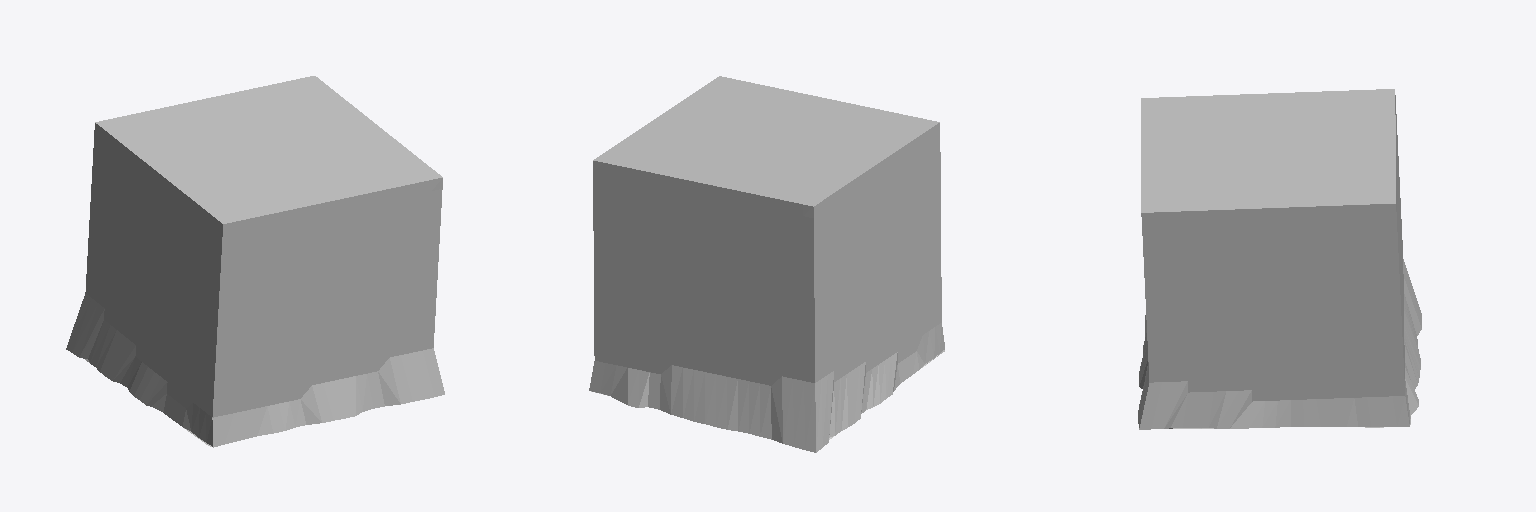
File: mod0026.obj
3 renders of one model, left to right at view 1: azimuth 30°, elevation 25°; view 2: azimuth 150°, elevation 25°; view 3: azimuth 270°, elevation 25°, orthographic.
Visible parts, largest first — view 1: Box001; view 2: Box001; view 3: Box001.
Part boxes in pixels (bbox=[...]): Box001: bbox=[66, 76, 444, 447]; Box001: bbox=[589, 76, 944, 452]; Box001: bbox=[1138, 89, 1421, 429].
Bounding box in the file's own units: 0.5799 × 0.5427 × 0.5979.